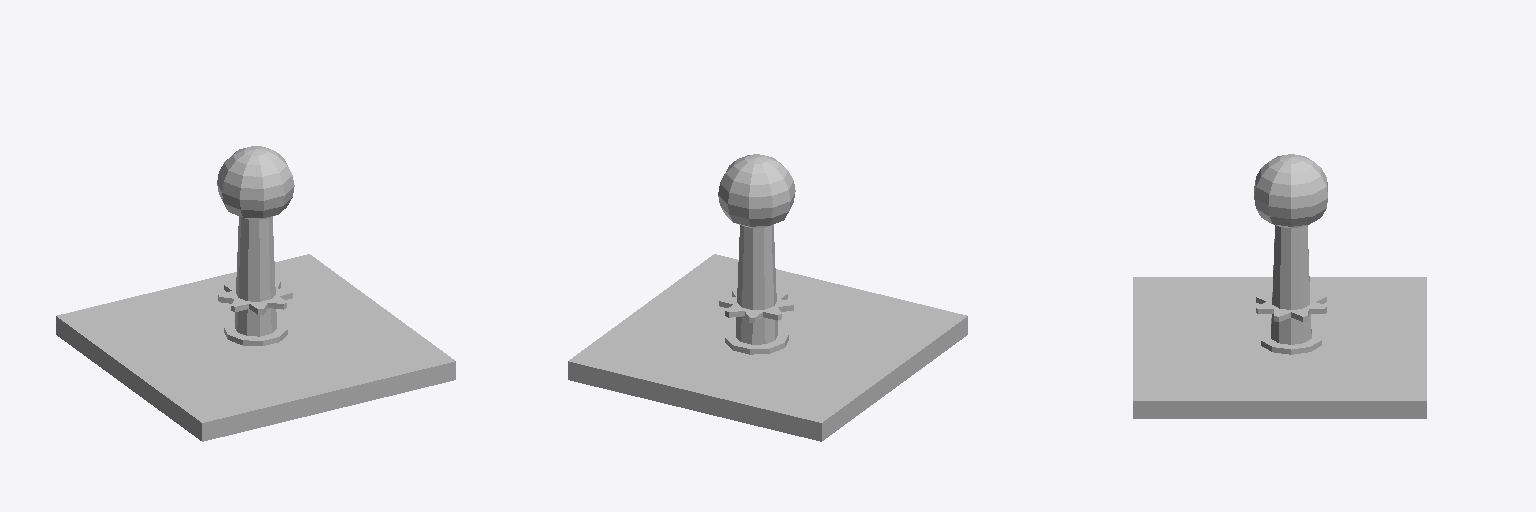
The model's file is marsdial.obj.
3 views of the same model, side by side, from view 1: azimuth 30°, elevation 25°; view 2: azimuth 150°, elevation 25°; view 3: azimuth 270°, elevation 25° (orthographic).
Visible parts, largest first — view 1: sundial_Mesh.006; view 2: sundial_Mesh.006; view 3: sundial_Mesh.006.
Part boxes in pixels (bbox=[...]): sundial_Mesh.006: bbox=[56, 146, 455, 441]; sundial_Mesh.006: bbox=[568, 154, 967, 441]; sundial_Mesh.006: bbox=[1133, 154, 1426, 418].
Bounding box in the file's own units: 0.0765 × 0.0584 × 0.0765.